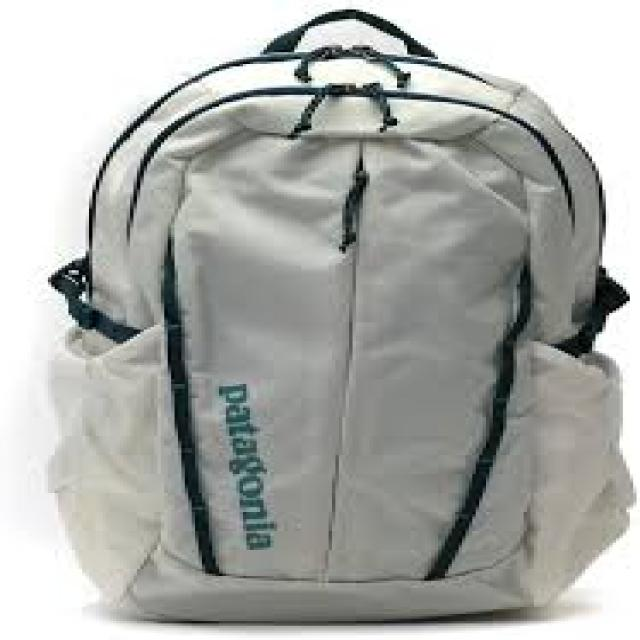backpack: (45, 7, 633, 624)
